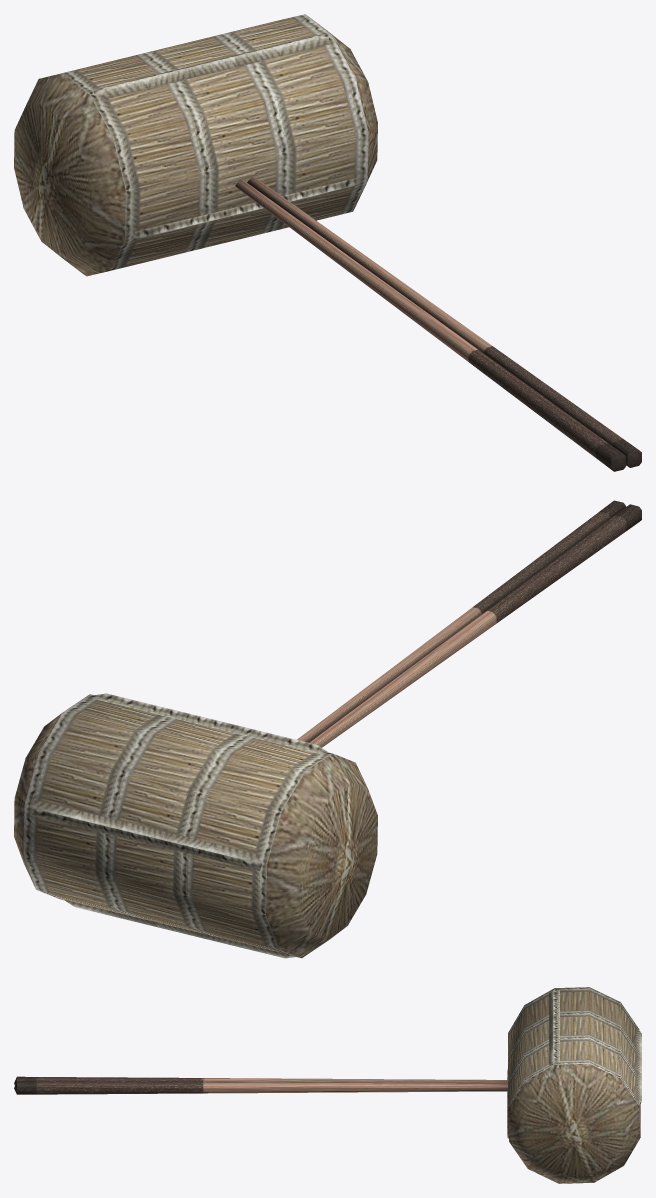
The model's file is wand_komedawara_wand1_komedawara_wand1.glb.
3 renders of one model, top to bottom at view 1: azimuth 30°, elevation 25°; view 2: azimuth 150°, elevation 25°; view 3: azimuth 270°, elevation 25°, orthographic. The views are drawn at different scales.
Size of the model in its own units: 0.6479 by 0.3828 by 1.77.
1 material, 1 textured.
